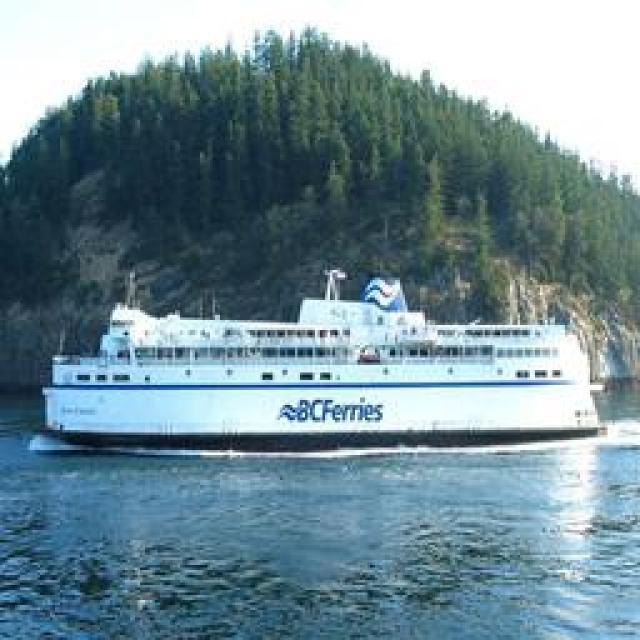CIV_Ship: (40, 265, 605, 453)
